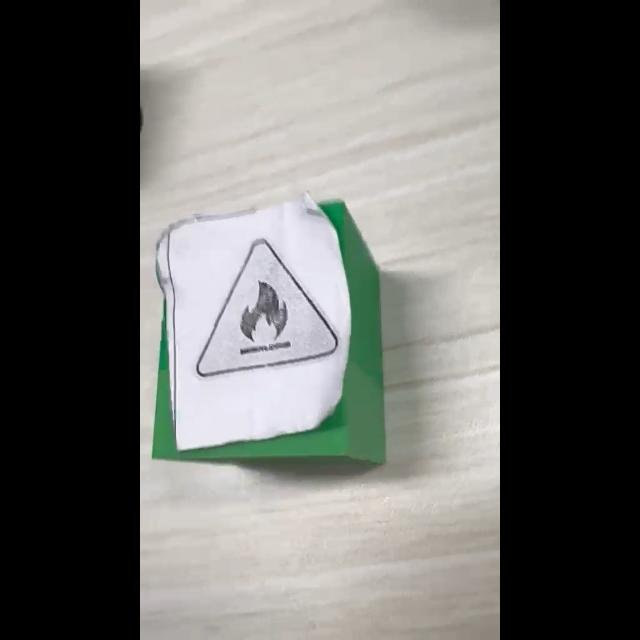Fire: (197, 239, 338, 378)
